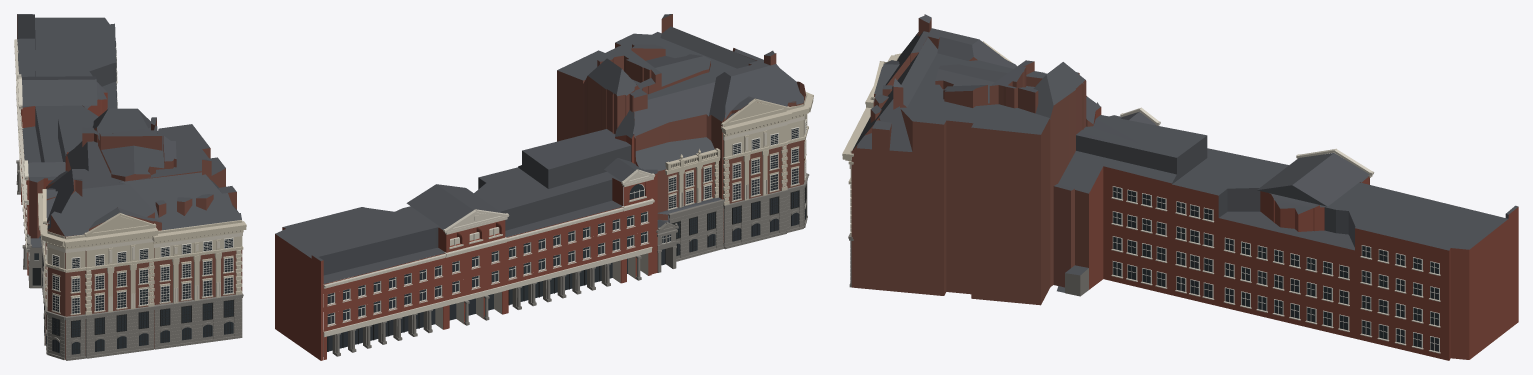
The model's file is spiegelhof.glb.
3 views of the same model, side by side, from view 1: azimuth 30°, elevation 25°; view 2: azimuth 150°, elevation 25°; view 3: azimuth 270°, elevation 25° (orthographic). The views are drawn at different scales.
Parts seen in each view (by area): view 1: spiegelhof; view 2: spiegelhof; view 3: spiegelhof.
Part boxes in pixels (<box>): spiegelhof: <box>14,14,246,360</box>; spiegelhof: <box>275,14,813,360</box>; spiegelhof: <box>842,14,1518,360</box>.
Bounding box in the file's own units: 50.81 × 28.04 × 85.28.
